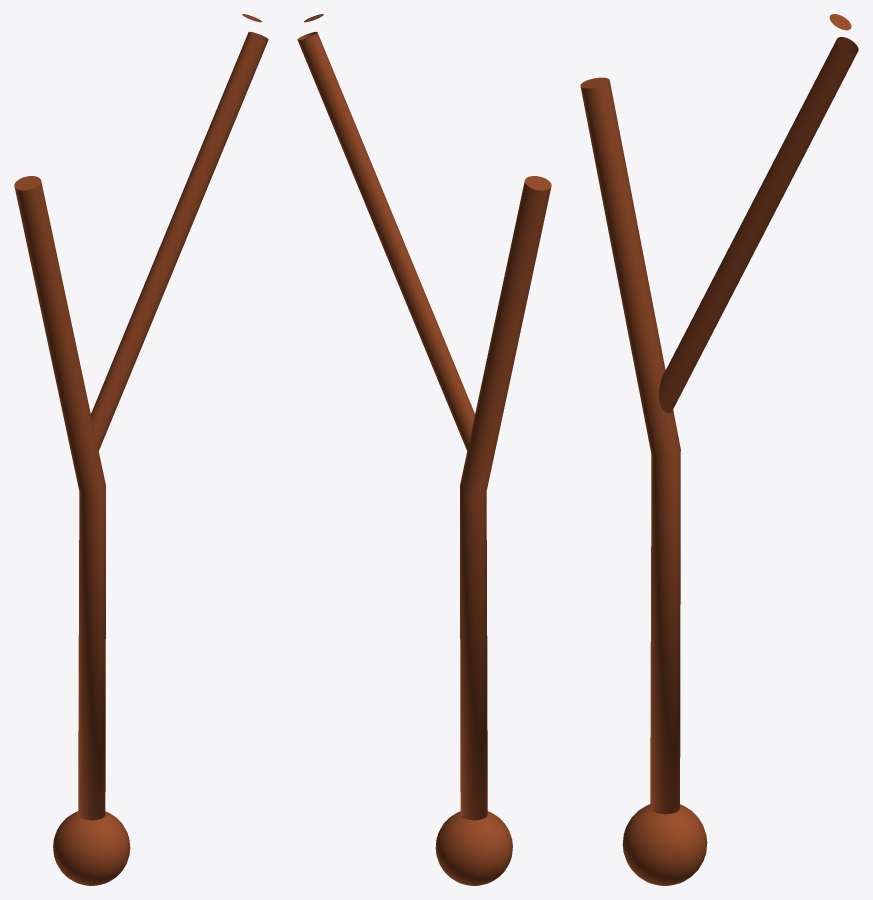
The model's file is gumdroptrunk.obj.
3 views of the same model, side by side, from view 1: azimuth 30°, elevation 25°; view 2: azimuth 150°, elevation 25°; view 3: azimuth 330°, elevation 25° (orthographic). The views are drawn at different scales.
Visible parts, largest first — view 1: Cube.015; view 2: Cube.015; view 3: Cube.015.
Boxes of the visible parts, x1,y1,x2,y2 form: Cube.015: (14, 14, 268, 885); Cube.015: (297, 14, 551, 885); Cube.015: (580, 14, 858, 885).
Bounding box in the file's own units: 4.8 × 15.14 × 1.28.
